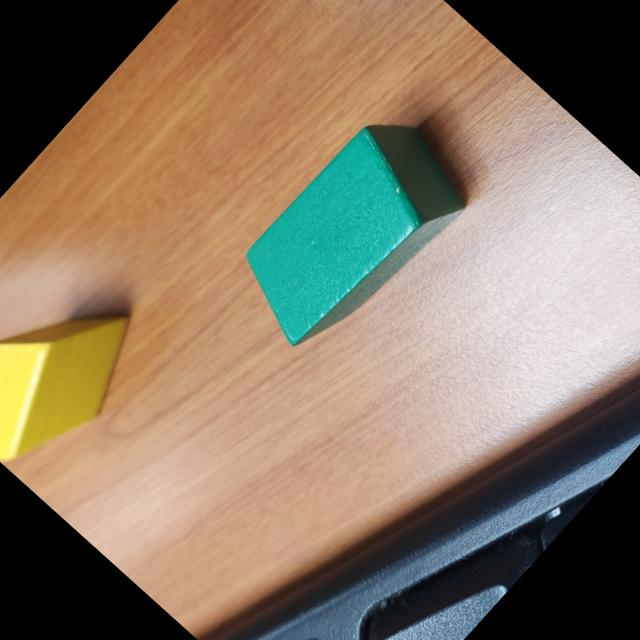green: (220, 99, 482, 368)
yellow: (0, 255, 161, 490)
